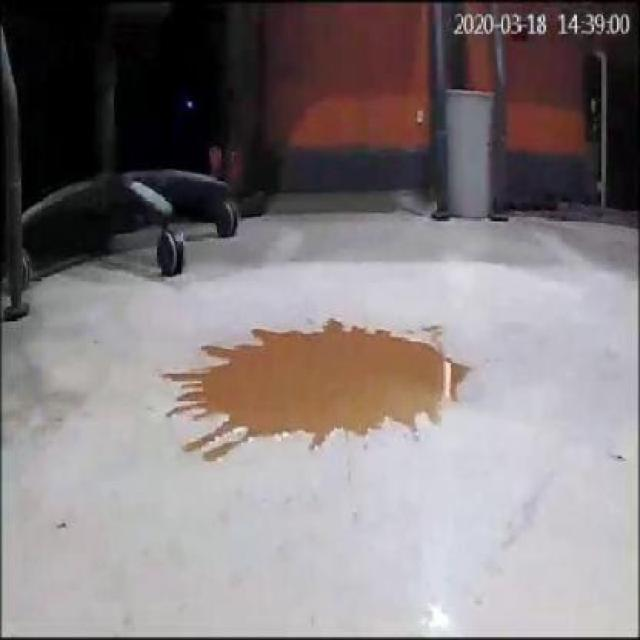spillage: (166, 321, 473, 462)
